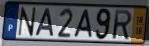2: (57, 7, 74, 39)
9: (94, 7, 113, 41)
A: (34, 7, 56, 38), (72, 9, 94, 39)
N: (17, 6, 38, 37)
R: (112, 9, 133, 41)
